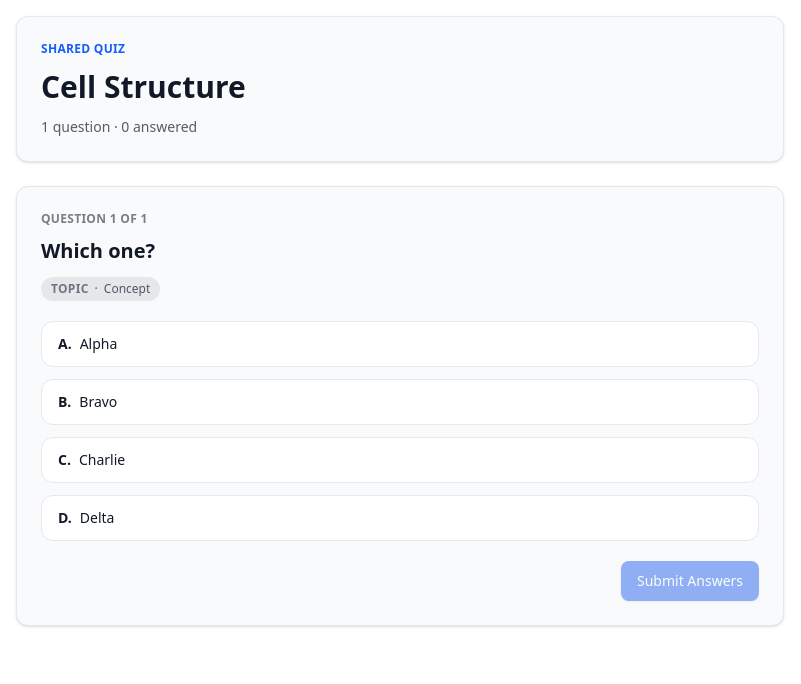
Scenario: shared quiz page › records no completion when grading fails
The width and height of the screenshot is (801, 684).
Check: the heading "Which one?" is shown, box 41,237 -> 155,264
Click the button "B.Bravo": (98, 402) 41,379 -> 759,425
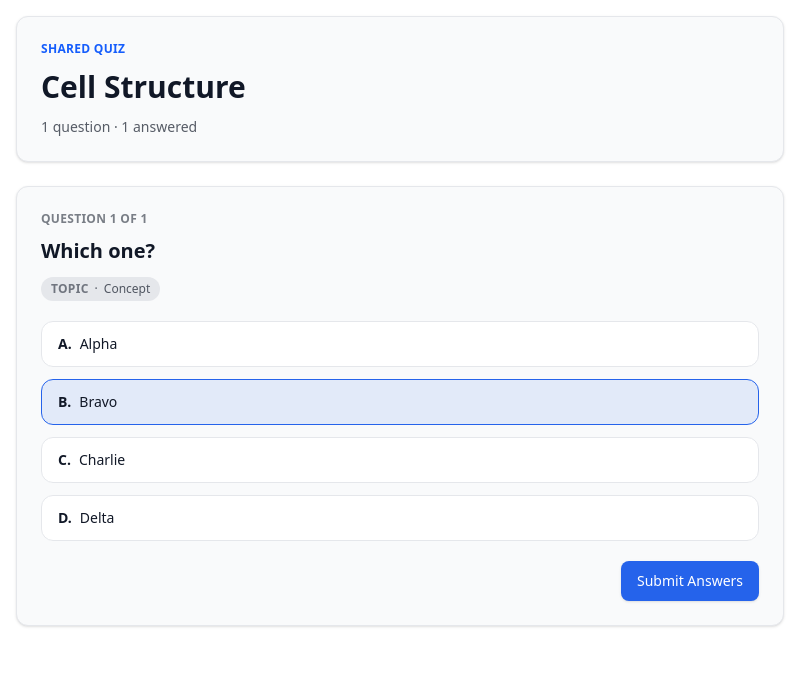
Click the button "Submit Answers": (690, 581) 621,561 -> 759,601
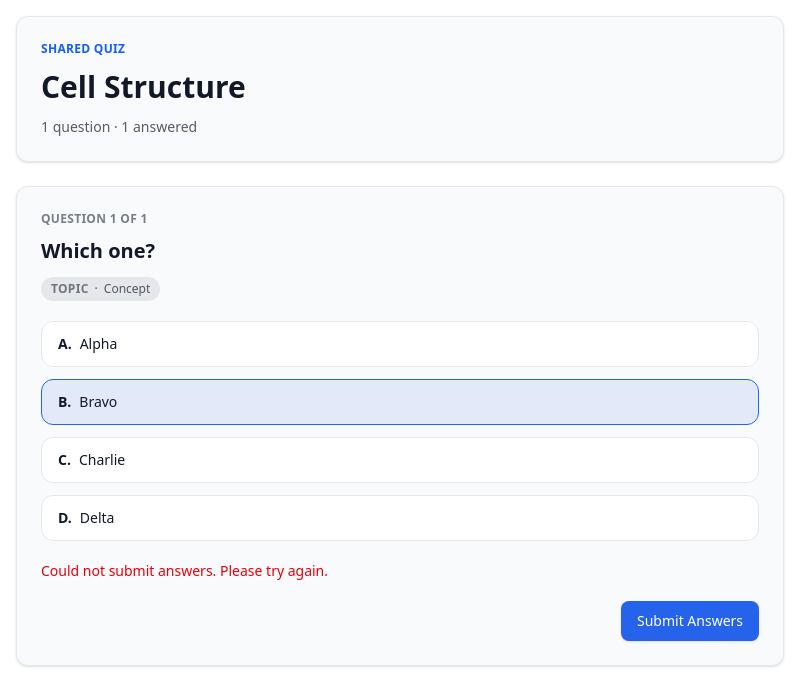
Check: the text "Could not submit answers. Please try again." is shown, box 41,561 -> 328,580
